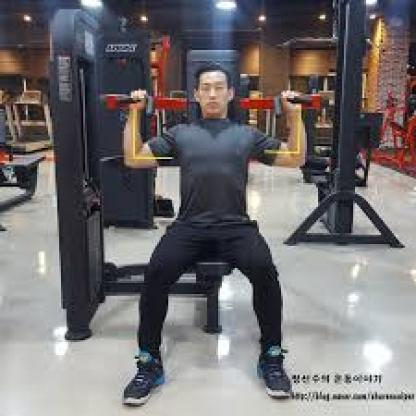shoulder press machine: (31, 3, 344, 416)
